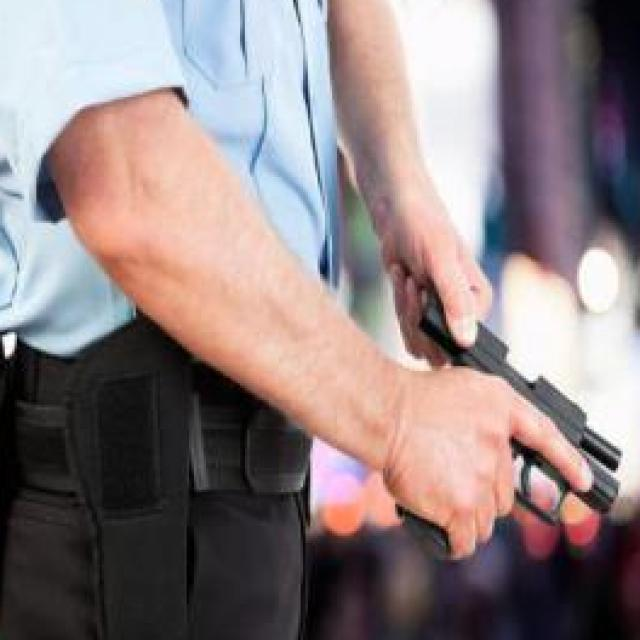pistol: (393, 279, 622, 562)
